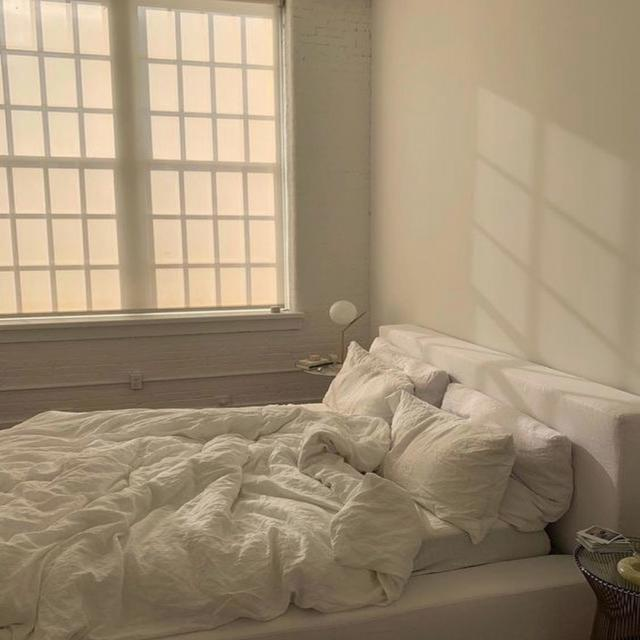bed: (0, 333, 623, 640)
